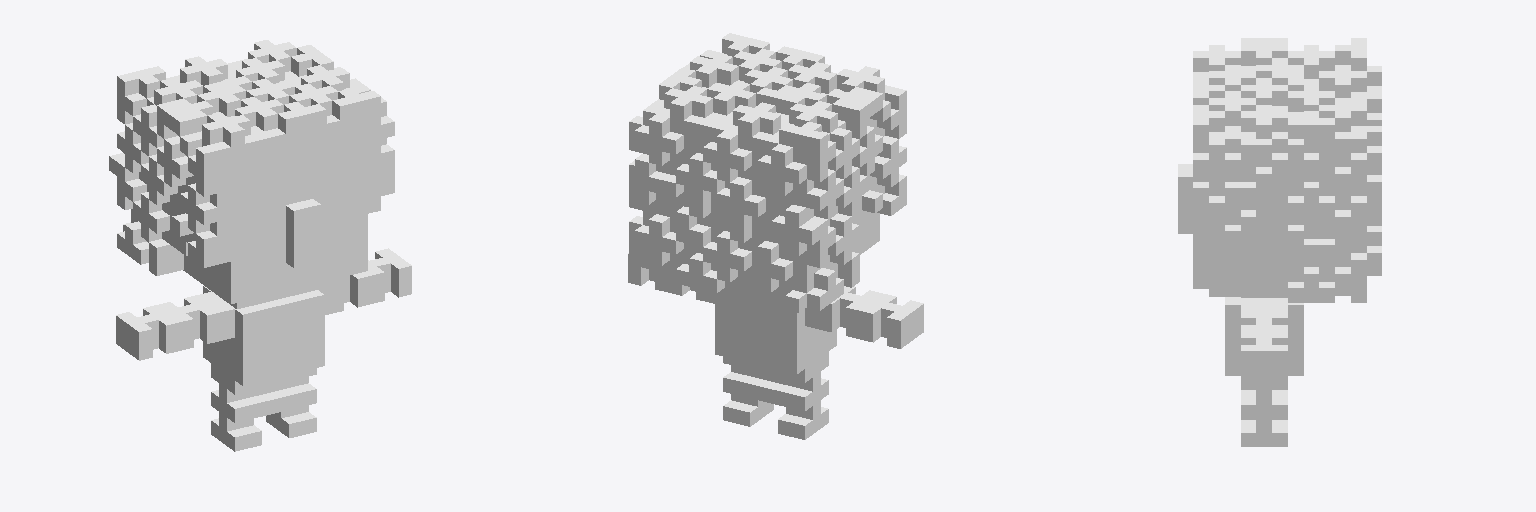
File: OldWoman.obj
3 views of the same model, side by side, from view 1: azimuth 30°, elevation 25°; view 2: azimuth 150°, elevation 25°; view 3: azimuth 270°, elevation 25° (orthographic).
Parts seen in each view (by area): view 1: object 1; view 2: object 1; view 3: object 1.
Part boxes in pixels (x1,y1,x2,y2): object 1: (109,40,411,451); object 1: (628,33,923,439); object 1: (1178,38,1381,446).
Size of the model in its own units: 2 by 2.4 by 1.3.